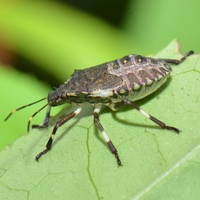insect: (0, 54, 199, 199)
